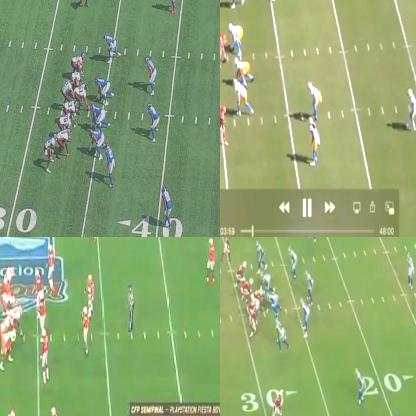CENTER: (7, 305, 23, 338), (77, 84, 87, 110), (253, 286, 264, 306), (220, 33, 227, 57)
DB: (162, 185, 174, 233), (205, 237, 215, 286), (311, 118, 320, 164), (408, 89, 415, 128), (407, 254, 414, 290), (357, 371, 363, 404), (168, 0, 179, 13), (49, 405, 61, 415), (307, 237, 315, 243)
LB: (78, 302, 89, 353), (144, 55, 156, 95), (148, 102, 160, 142), (105, 142, 116, 185), (103, 33, 119, 62), (83, 275, 96, 309), (311, 82, 321, 117), (302, 302, 310, 337), (306, 272, 313, 306), (290, 248, 297, 277)
QB: (63, 77, 74, 103)
SKILL: (57, 130, 72, 158), (43, 134, 54, 171), (271, 390, 285, 415), (220, 103, 227, 145), (225, 237, 234, 259), (76, 0, 90, 7)
